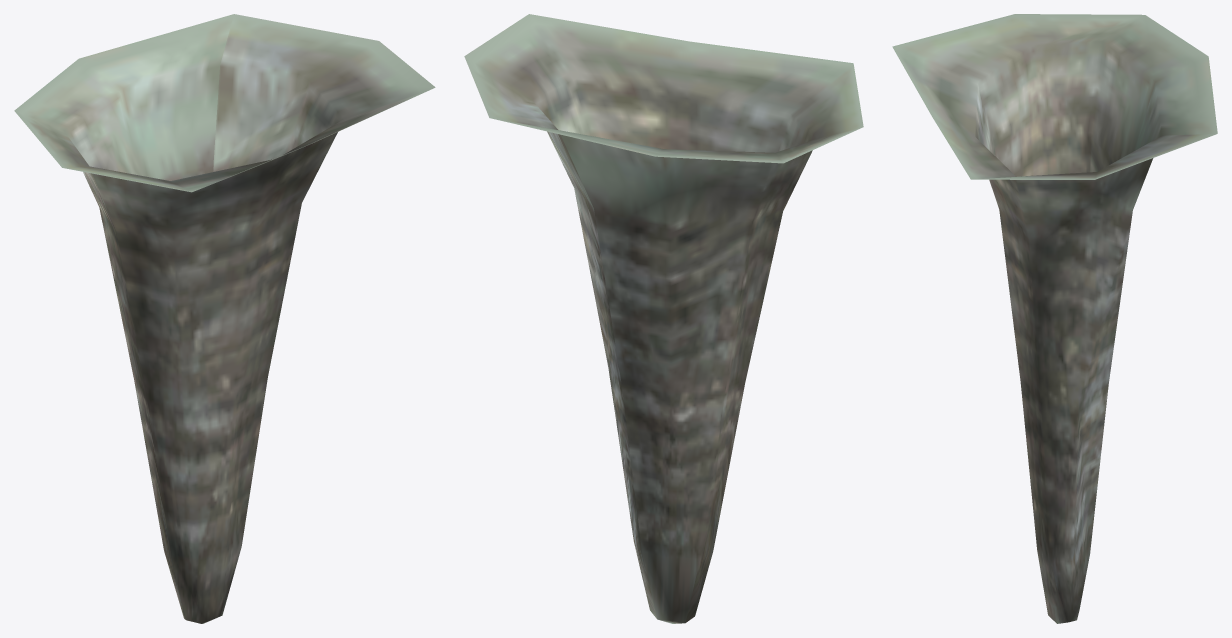
The model's file is TROLLHOLE02_PS-MAINSTALAG66.fbx.
3 views of the same model, side by side, from view 1: azimuth 30°, elevation 25°; view 2: azimuth 150°, elevation 25°; view 3: azimuth 270°, elevation 25° (orthographic). The views are drawn at different scales.
Visible parts, largest first — view 1: TROLLHOLE02_PS-MAINSTALAG66; view 2: TROLLHOLE02_PS-MAINSTALAG66; view 3: TROLLHOLE02_PS-MAINSTALAG66.
Boxes of the visible parts, x1,y1,x2,y2 form: TROLLHOLE02_PS-MAINSTALAG66: (14,14,435,623); TROLLHOLE02_PS-MAINSTALAG66: (464,14,863,623); TROLLHOLE02_PS-MAINSTALAG66: (892,14,1217,623).
Size of the model in its own units: 29760 by 42275 by 23008.
1 material, 1 textured.
